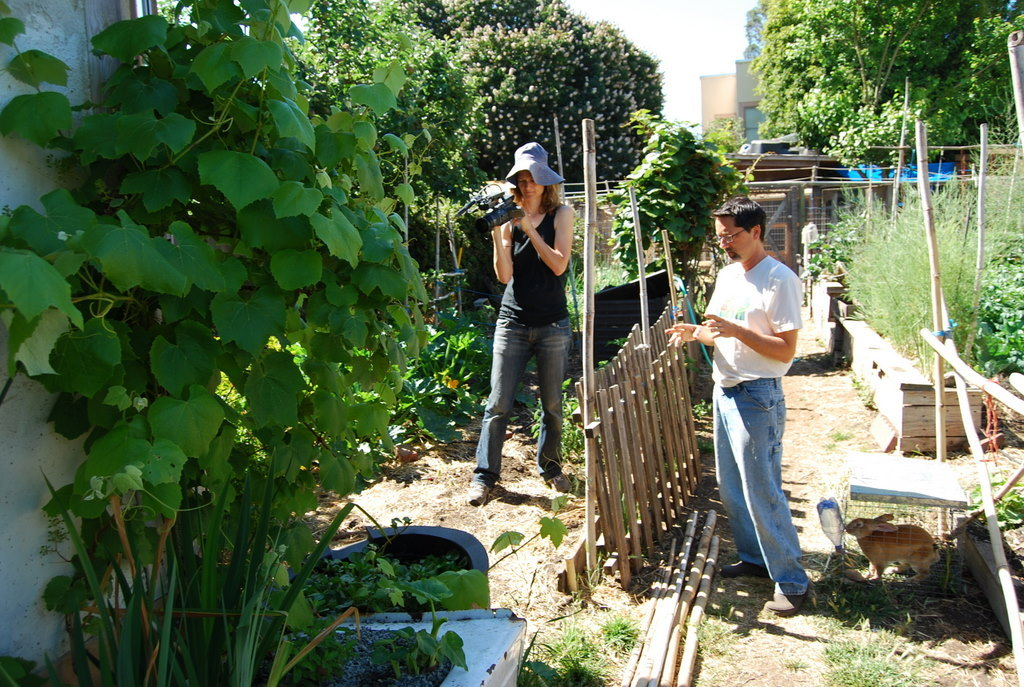Tree: (410, 0, 673, 206), (725, 0, 1022, 168), (270, 0, 471, 236)
